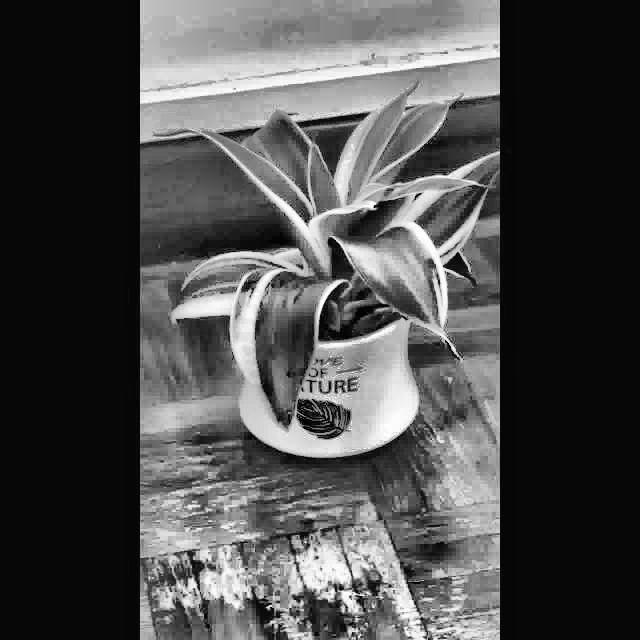plants: (156, 76, 500, 468)
